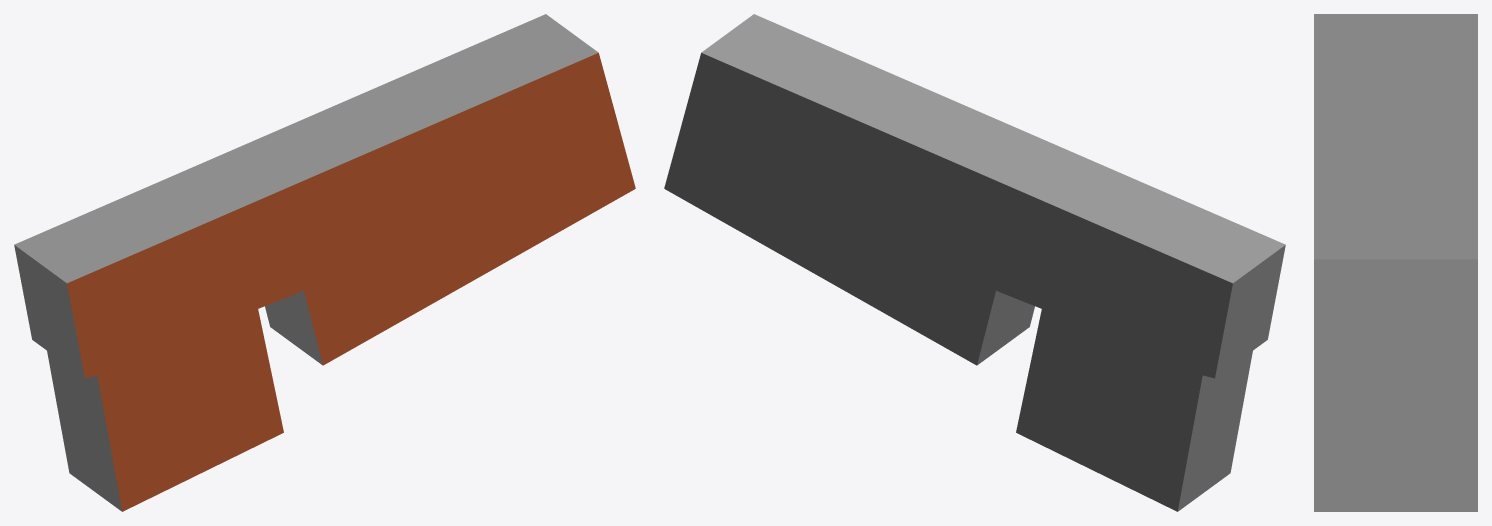
File: construction_6740_assumed_A_Casa_h6m.obj
3 renders of one model, left to right at view 1: azimuth 30°, elevation 25°; view 2: azimuth 150°, elevation 25°; view 3: azimuth 270°, elevation 25°, orthographic. The views are drawn at different scales.
Visible parts, largest first — view 1: construction_6740_assumed_A_Casa; view 2: construction_6740_assumed_A_Casa; view 3: construction_6740_assumed_A_Casa.
Boxes of the visible parts, x1,y1,x2,y2 form: construction_6740_assumed_A_Casa: (14,14,635,511); construction_6740_assumed_A_Casa: (664,14,1285,511); construction_6740_assumed_A_Casa: (1314,14,1477,511).
Bounding box in the file's own units: 37.27 × 21.47 × 6.
